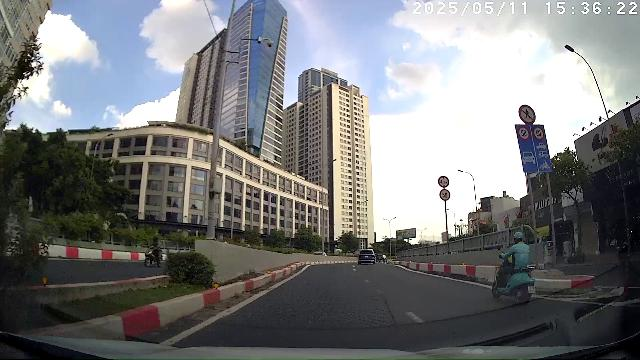127-toc-do-toi-da-50: (518, 125, 531, 141), (533, 126, 545, 140), (440, 189, 451, 201)
